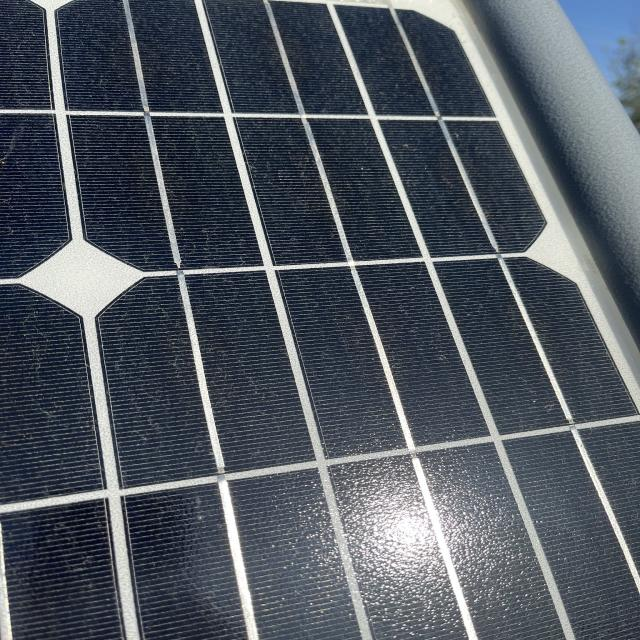clean-solar-panel: (2, 1, 638, 640)
